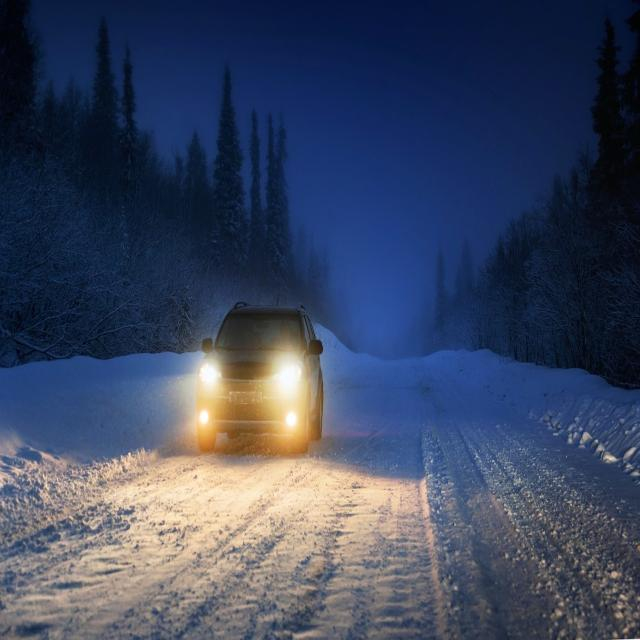car: (193, 304, 329, 456)
